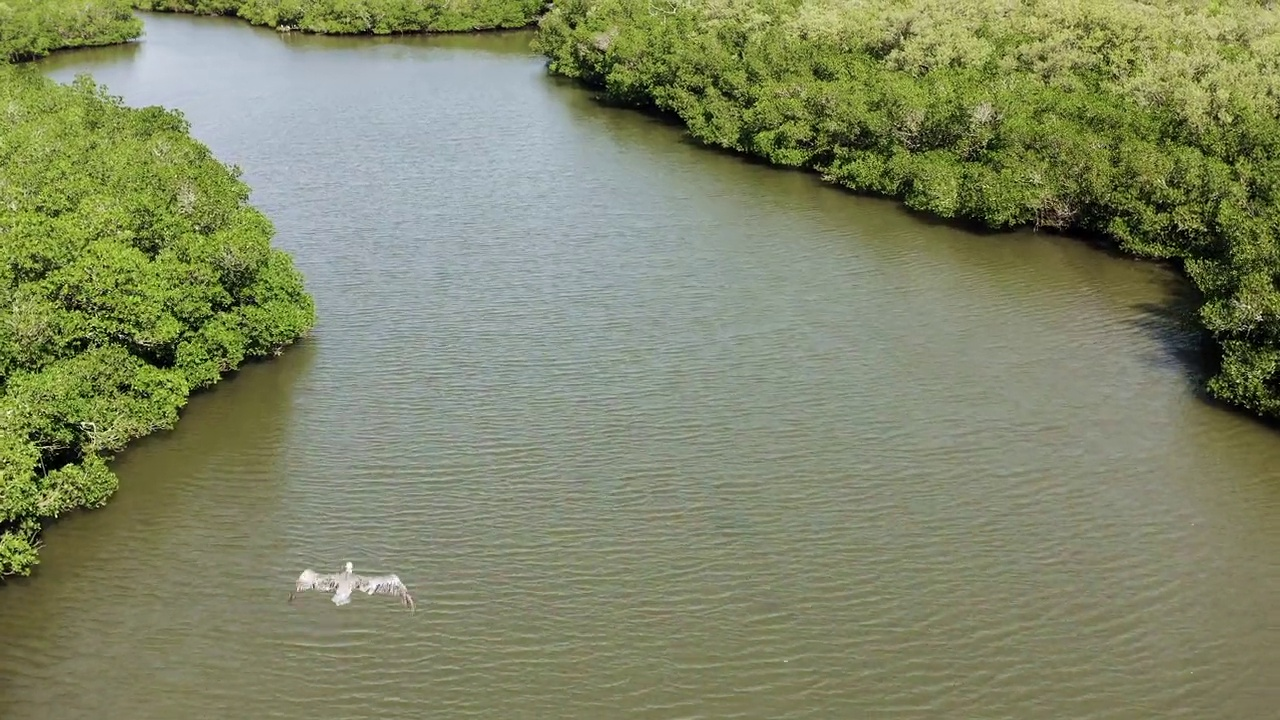bird: (287, 563, 416, 613)
